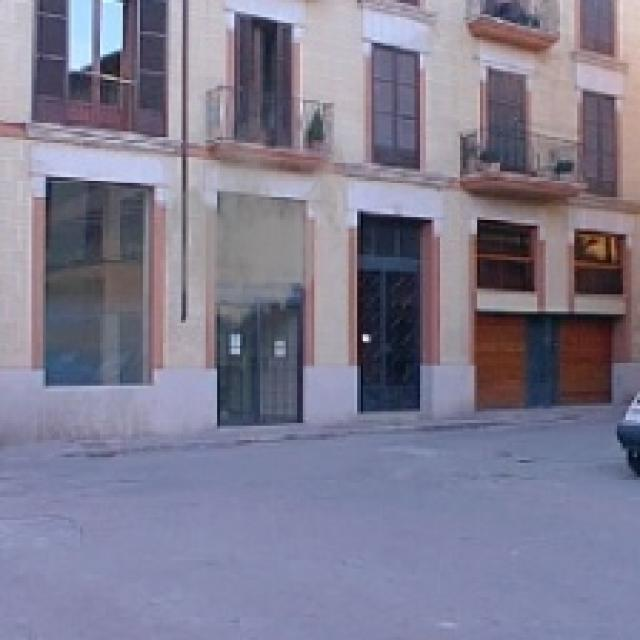smoke: (149, 109, 354, 334)
